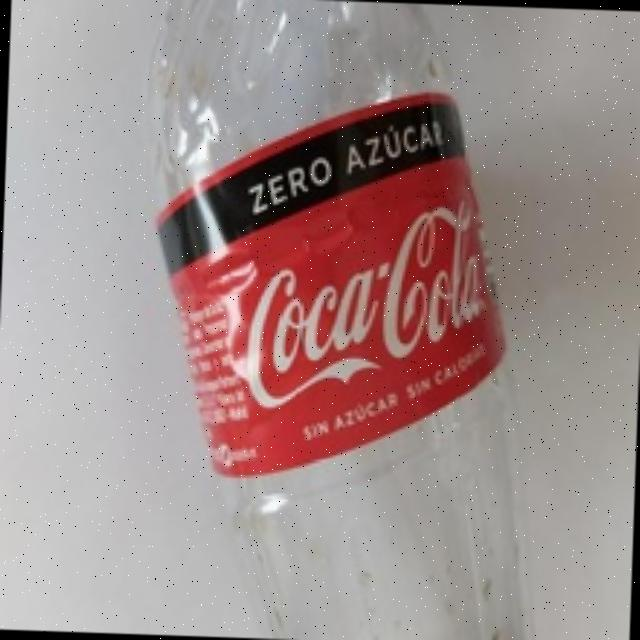bottle: (113, 0, 560, 640)
label: (190, 144, 450, 449)
